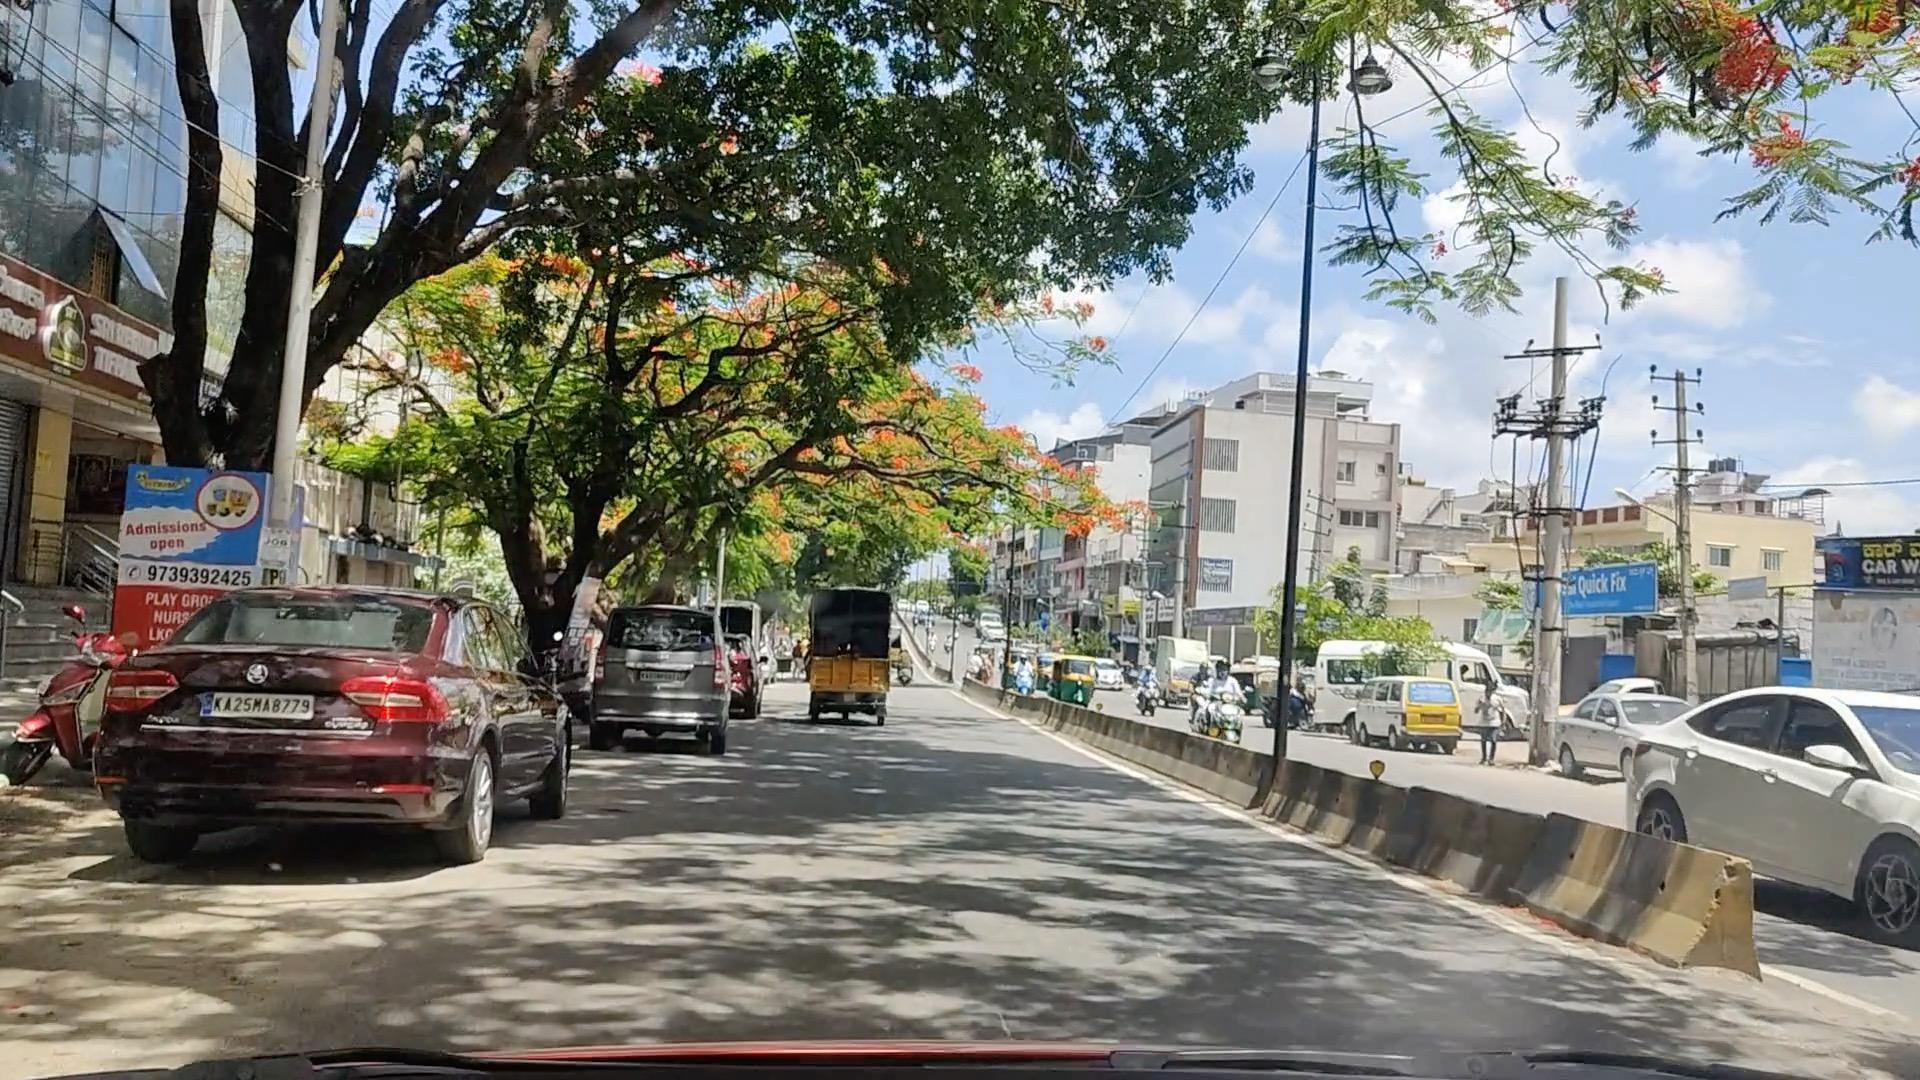HMV: (593, 611, 719, 731), (820, 576, 901, 724)
LMV: (63, 593, 520, 824)
